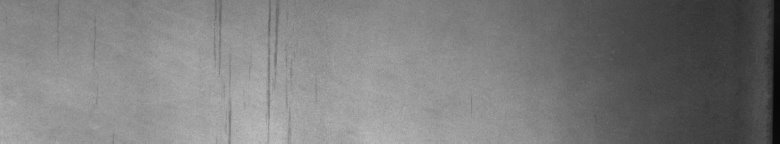ka: (213, 4, 291, 136)
